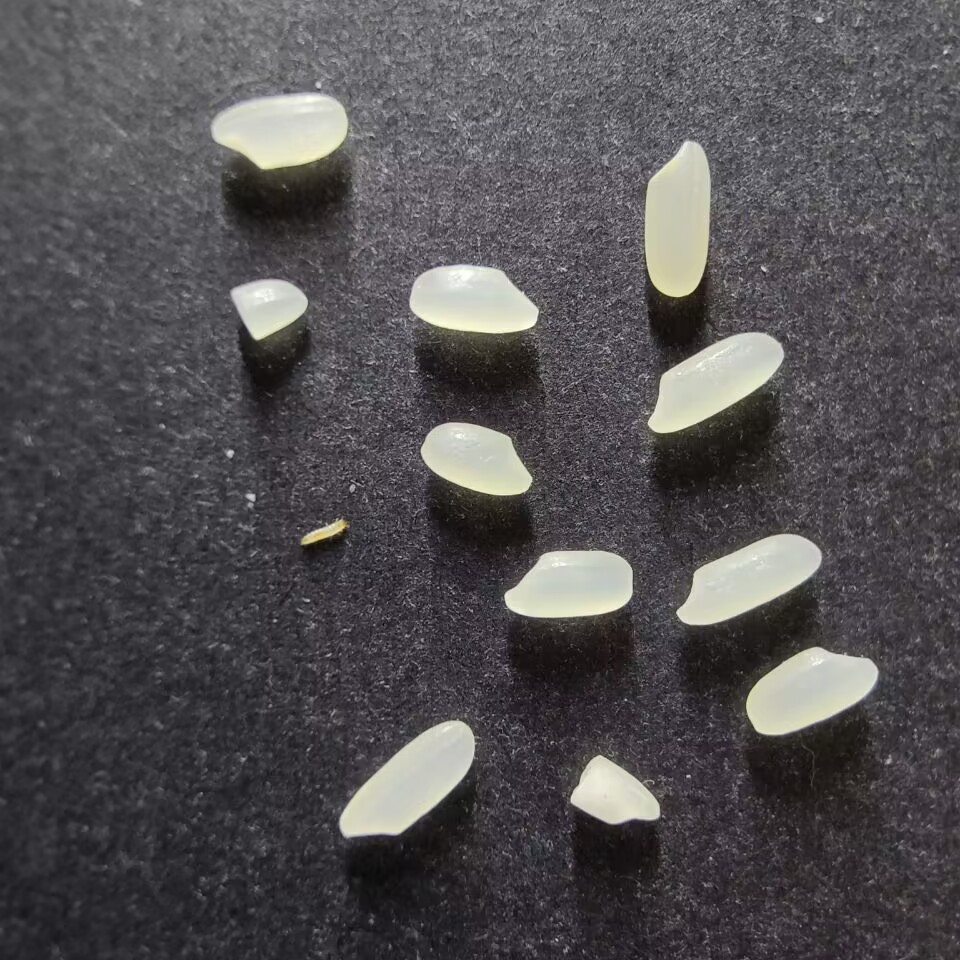broken: (567, 752, 664, 826), (229, 278, 309, 342)
others: (295, 515, 349, 553)
rice: (337, 716, 477, 840), (673, 528, 824, 628), (645, 329, 785, 434), (743, 644, 880, 736), (642, 138, 713, 298), (208, 92, 348, 171), (501, 547, 635, 619), (407, 262, 539, 334), (418, 421, 534, 497)
